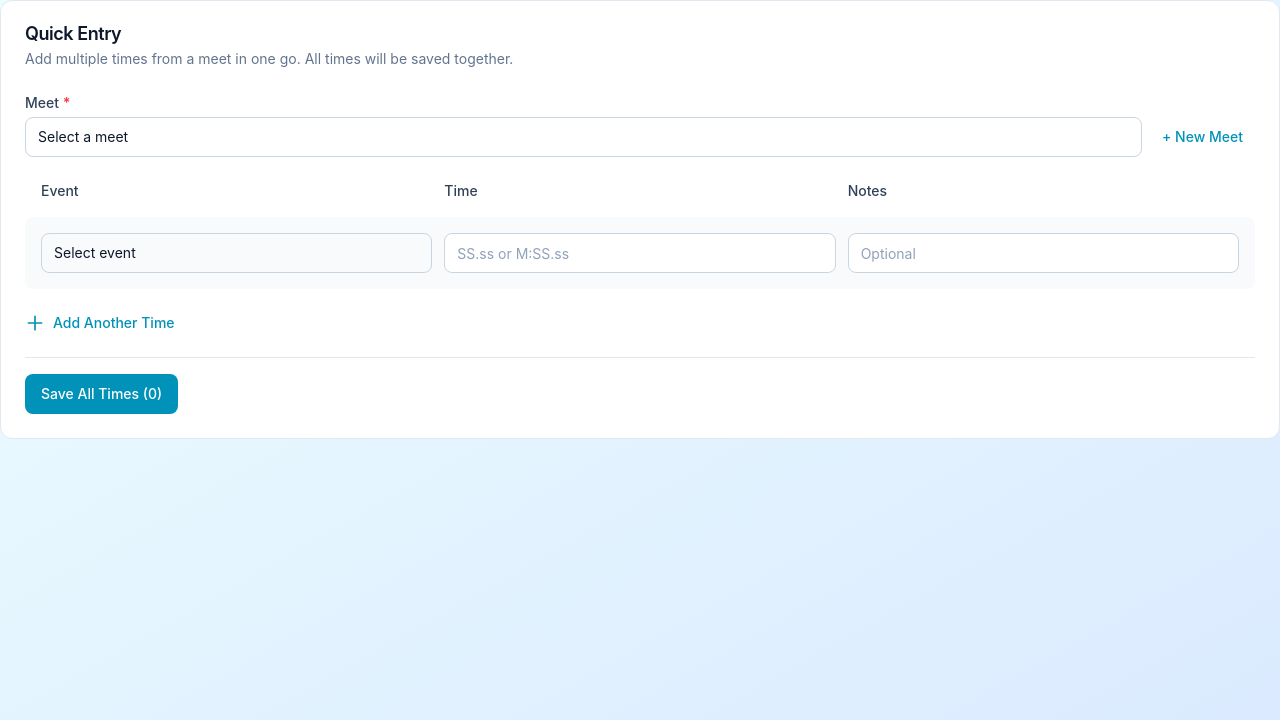
it: QuickEntryForm MeetSelector Integration › submits successfully when meet and time are filled in
# Select a meet
Select "Test Championship - 2026-01-15 (25m)" in the dropdown labelled "Meet*" at point(584, 137), box [25,117,1142,157]
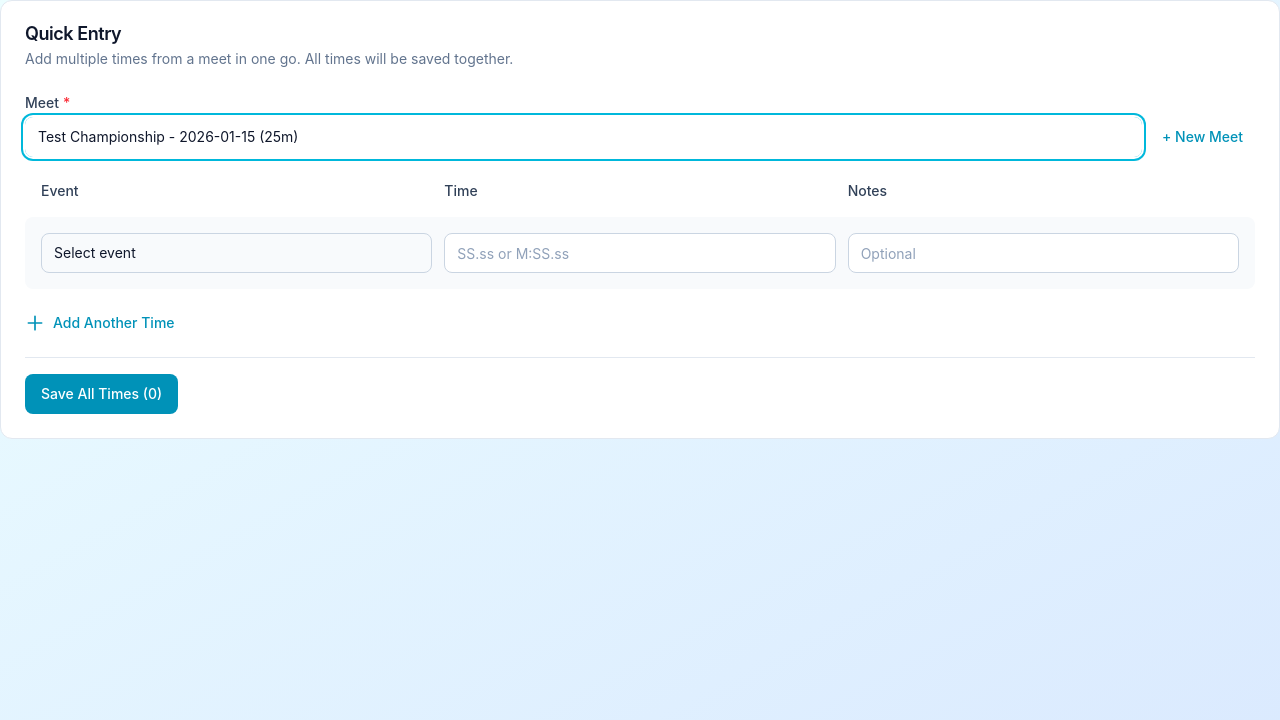
Select "200m Freestyle" in the 2nd dropdown at point(237, 253), box [41,233,432,273]
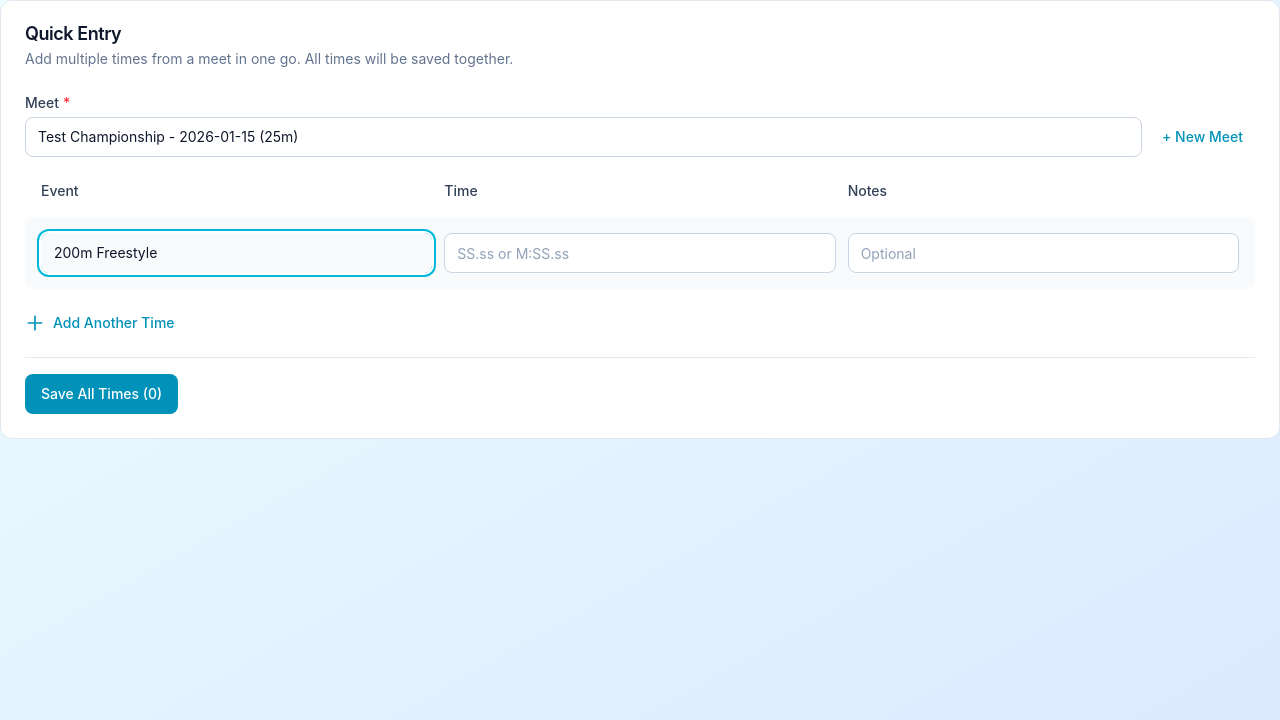
# Fill in time
Type "2:15.50" into the field with placeholder "SS.ss or M:SS.ss" at point(640, 253), box [444,233,836,273]
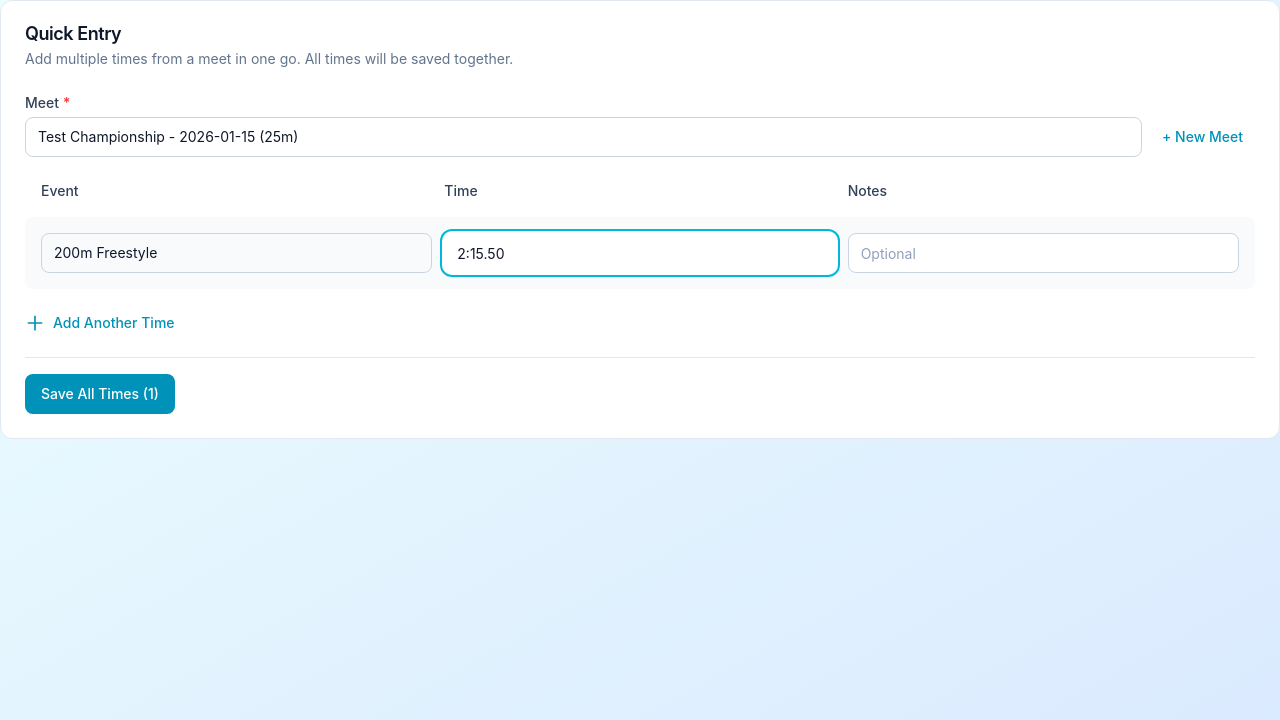
Click the button "Save All Times (1)" at point(100, 394), box [25,374,175,414]
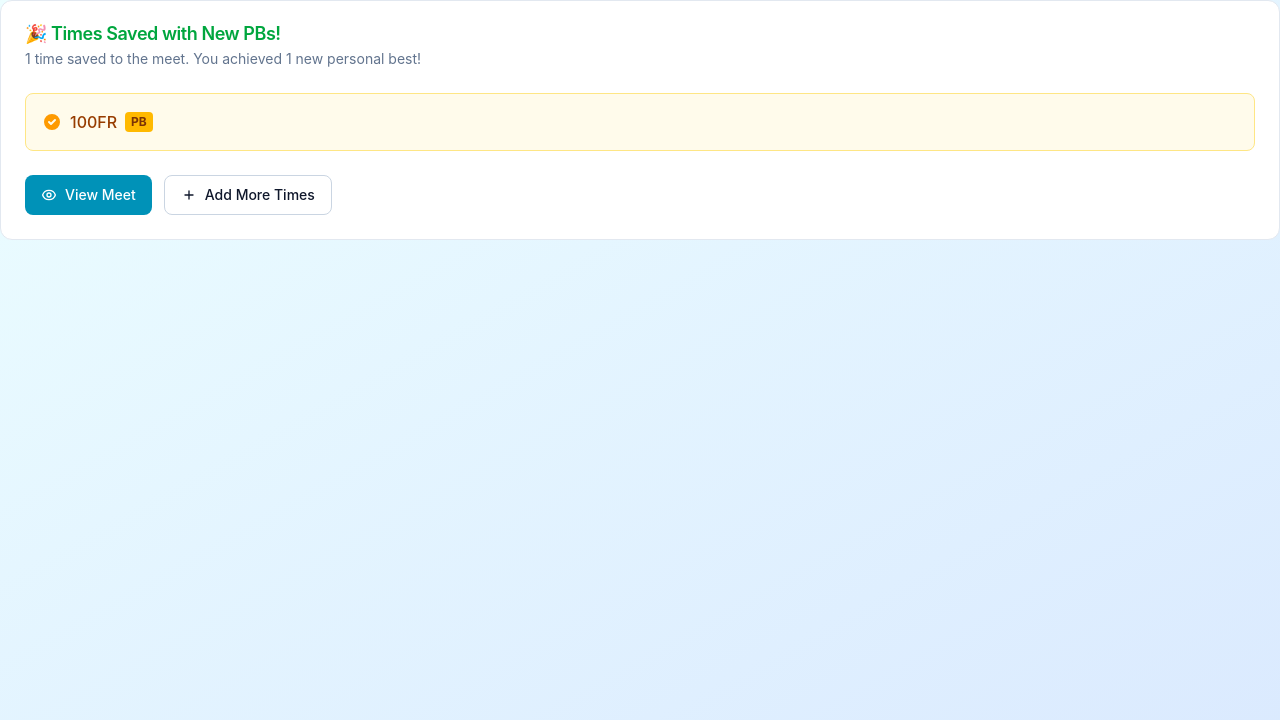
Check: the heading "🎉 Times Saved with New PBs!" is shown, box [25,23,281,44]
Check: the button "View Meet" is shown, box [25,175,152,215]
